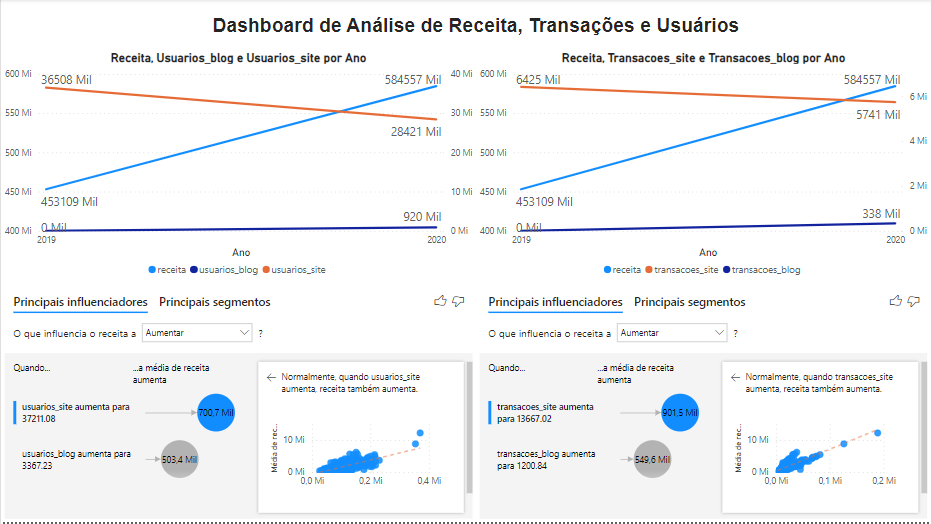

What the dashboard file says about the page in this screenshot:
{"tool":"powerbi","page":{"name":"Página 1","canvas":[1280,720],"ordinal":0},"visuals":[{"type":"lineChart","title":"Receita, Usuarios_blog e Usuarios_site por Ano","fields":{"Category":["psel - data.data.Variation.Hierarquia de datas.Ano"],"Y":["Sum(psel - data.receita)"],"Y2":["Sum(psel - data.usuarios_blog)","Sum(psel - data.usuarios_site)"]},"box":[0,70.6,653.8,321.1],"z":0},{"type":"keyDriversVisual","fields":{"Target":["psel - data.receita"],"ExplainBy":["Sum(psel - data.transacoes_blog)","Sum(psel - data.transacoes_site)"]},"box":[653.8,391.7,626.4,328.3],"z":1000},{"type":"keyDriversVisual","fields":{"Target":["psel - data.receita"],"ExplainBy":["Sum(psel - data.usuarios_site)","Sum(psel - data.usuarios_blog)"]},"box":[0,391.7,653.8,328.3],"z":2000},{"type":"lineChart","title":"Receita, Transacoes_site e Transacoes_blog por Ano","fields":{"Y":["Sum(psel - data.receita)"],"Category":["psel - data.data.Variation.Hierarquia de datas.Ano","psel - data.data.Variation.Hierarquia de datas.Trimestre","psel - data.data.Variation.Hierarquia de datas.Mês","psel - data.data.Variation.Hierarquia de datas.Dia"],"Y2":["Sum(psel - data.transacoes_site)","Sum(psel - data.transacoes_blog)"]},"box":[653.8,70.6,626.4,321.1],"z":3000},{"type":"textbox","box":[158.4,15.8,990.7,54.7],"z":4000}]}

Visuals, with their boxes in screenshot pixels (x1, y1, x2, y2), scaled from the page's 1280x720 canvas onto the 931x524 screenshot:
"Receita, Usuarios_blog e Usuarios_site por Ano" lineChart: {"x1": 0, "y1": 51, "x2": 476, "y2": 285}
keyDriversVisual - psel - data.receita x Sum(psel - data.transacoes_blog): {"x1": 476, "y1": 285, "x2": 930, "y2": 523}
keyDriversVisual - psel - data.receita x Sum(psel - data.usuarios_site): {"x1": 0, "y1": 285, "x2": 476, "y2": 523}
"Receita, Transacoes_site e Transacoes_blog por Ano" lineChart: {"x1": 476, "y1": 51, "x2": 930, "y2": 285}
textbox: {"x1": 115, "y1": 11, "x2": 836, "y2": 51}
